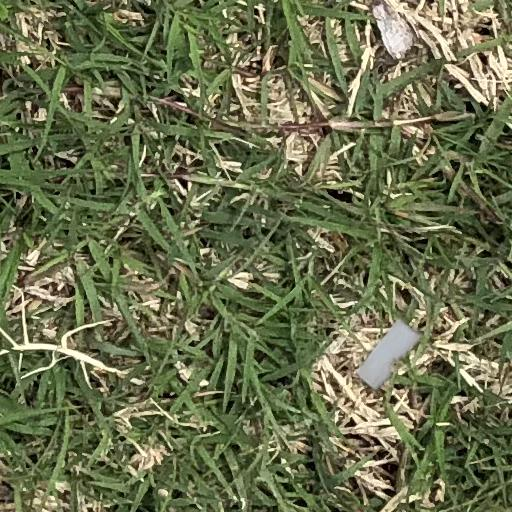smoke: (358, 320, 420, 389)
